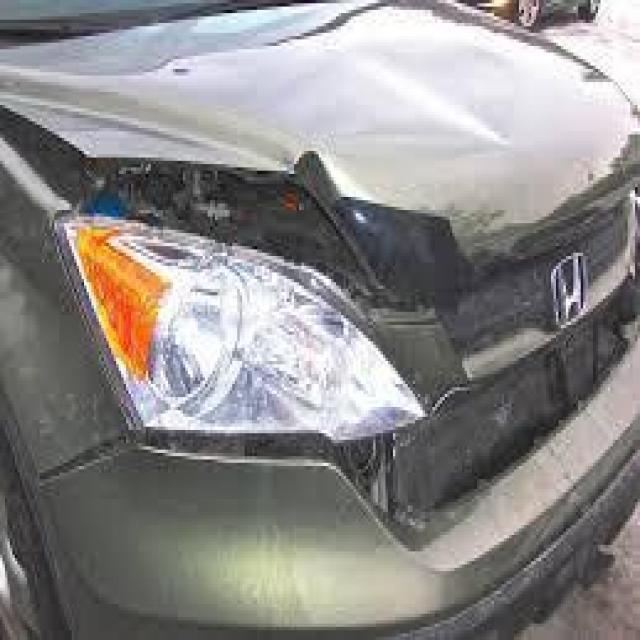damaged: (72, 154, 338, 246)
